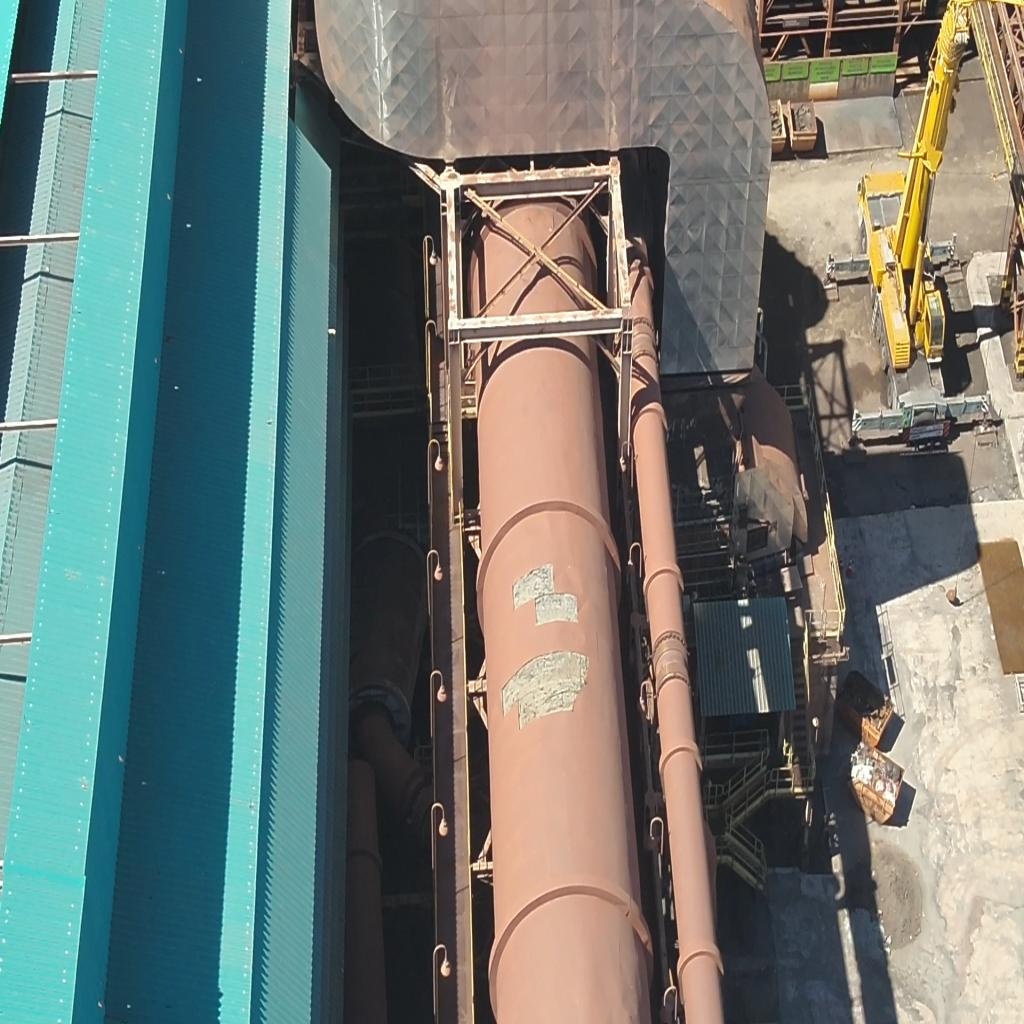Failures: (498, 651, 598, 730), (506, 559, 580, 626)
